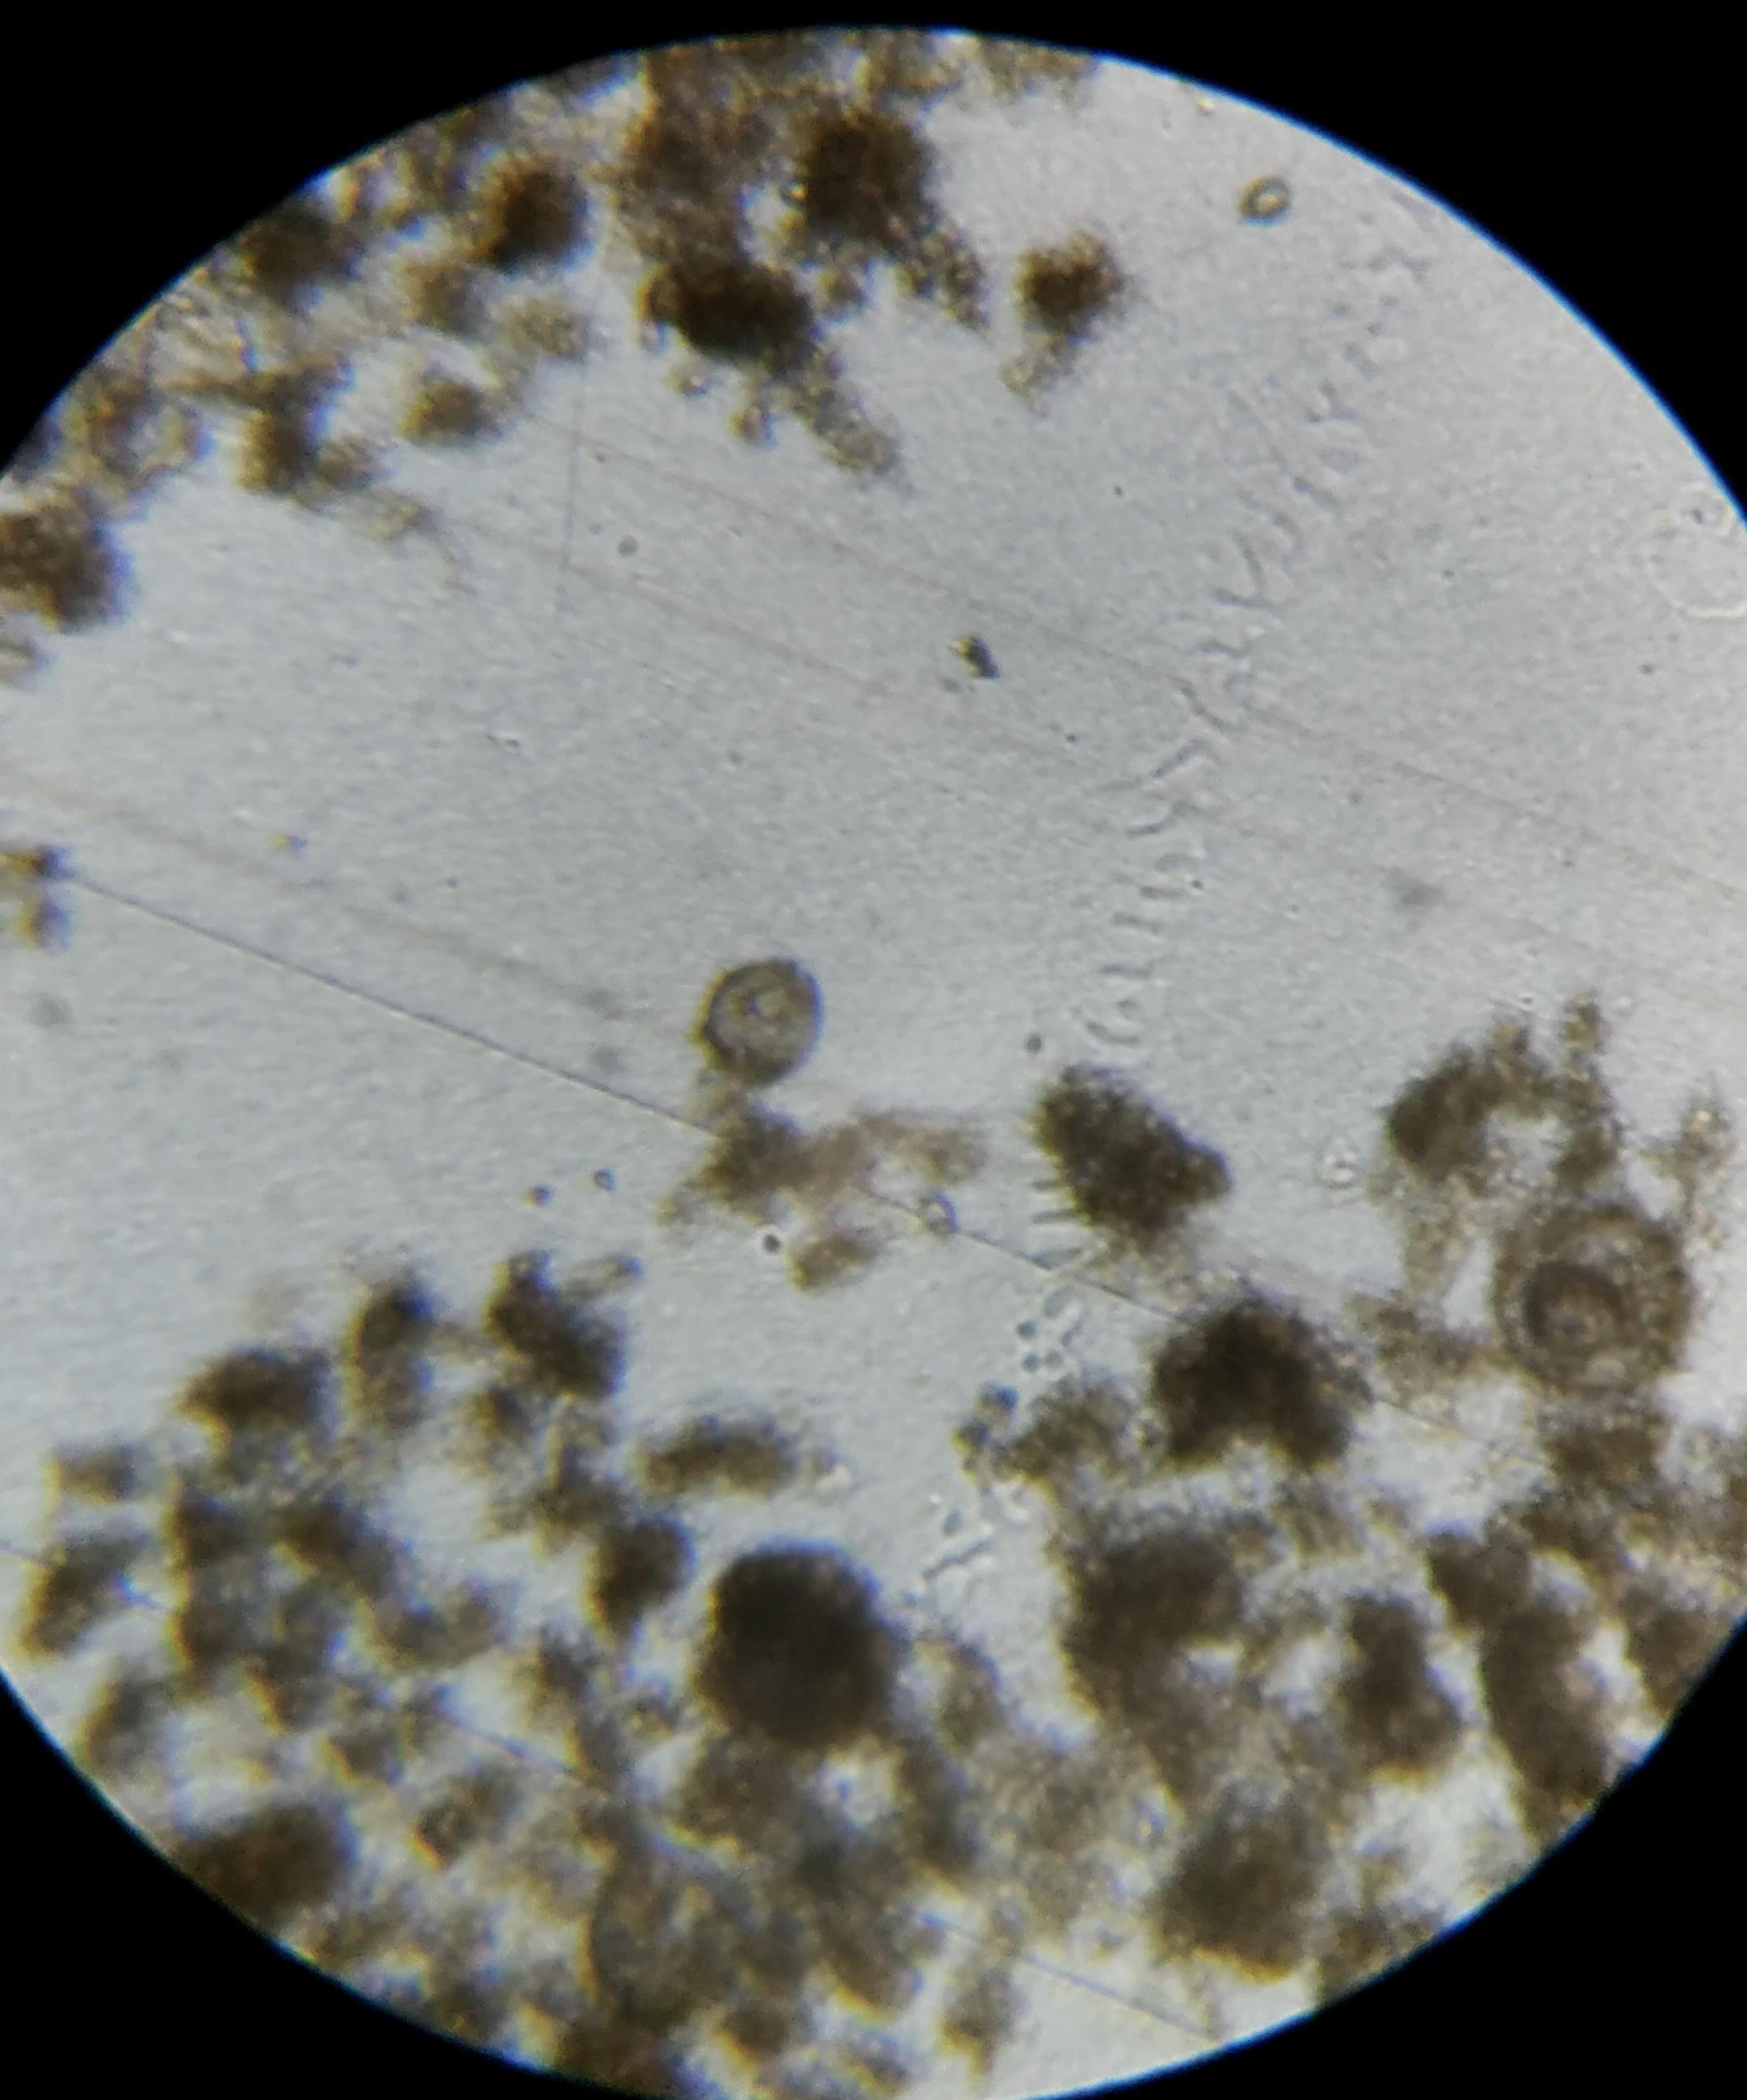Arcella: (1497, 1207, 1674, 1395), (588, 1854, 749, 2022), (710, 965, 819, 1074)
